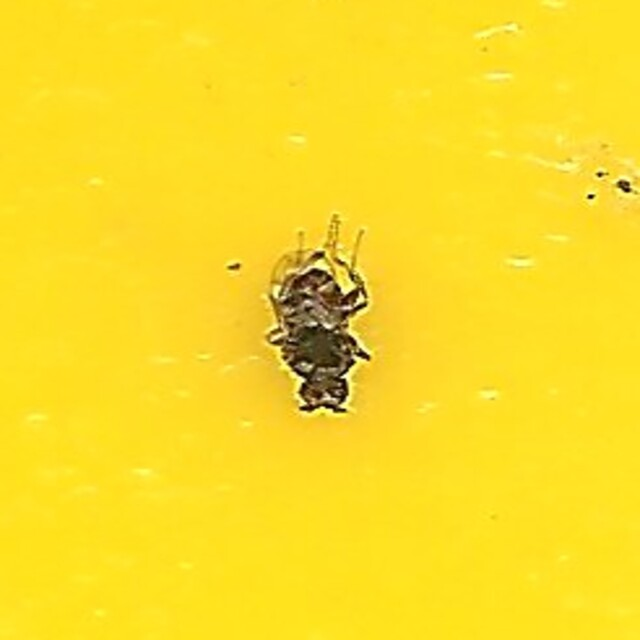Brachycera: (260, 216, 380, 424)
